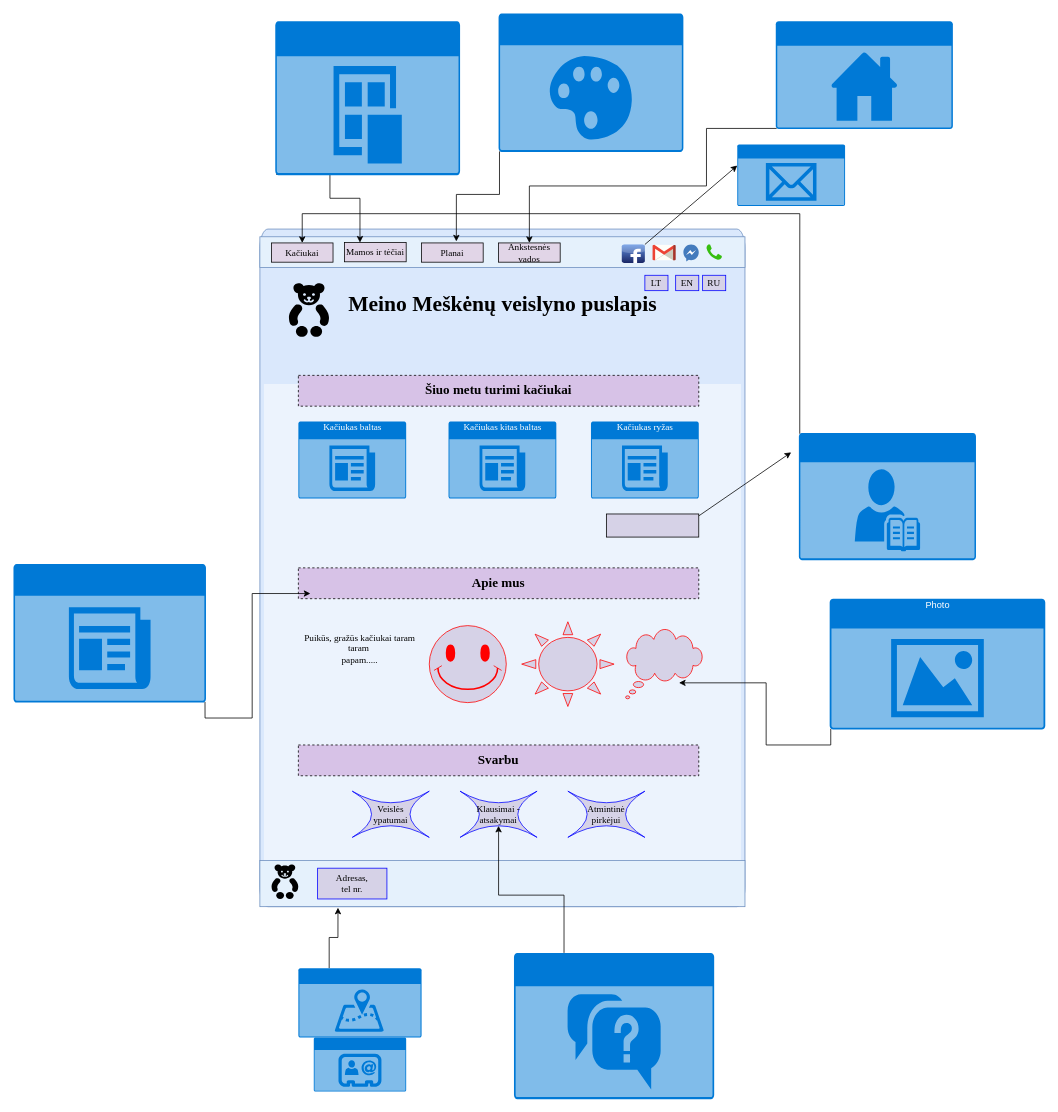
Some shapes in this 1058 by 1112 pixel diagram are drawn without their labels. The shapes that lost their labels are listed below. From the top down, each one's centre as x and y in pixels, then its label:
At (x=590, y=82): "Planuojamų vadų tėvų nuotraukos".
At (x=863, y=75): "Per praeitus metus turėti ir jau namus suradę kačiukai".
At (x=367, y=98): "Aprašymai ir nuotraukos".
At (x=791, y=175): "Mail".
At (x=887, y=496): "Biography".
At (x=652, y=525): "Daugiau kačiukų".
At (x=109, y=633): "News".
At (x=359, y=1002): "Map".
At (x=614, y=1025): "FAQ".
At (x=359, y=1064): "Contact".
